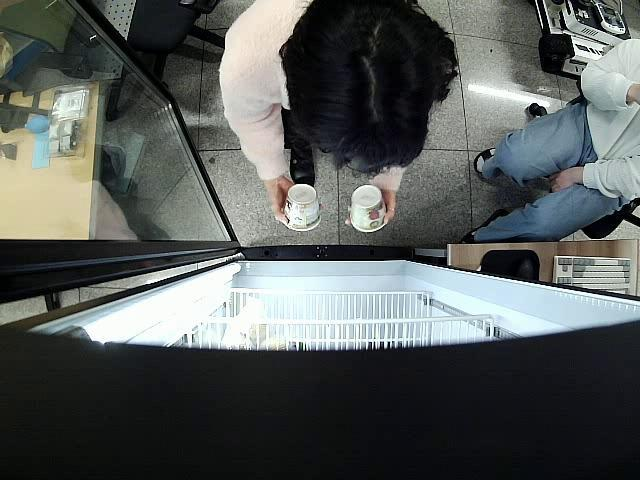04_chapagetti_S: (282, 183, 322, 232), (348, 186, 388, 232)
